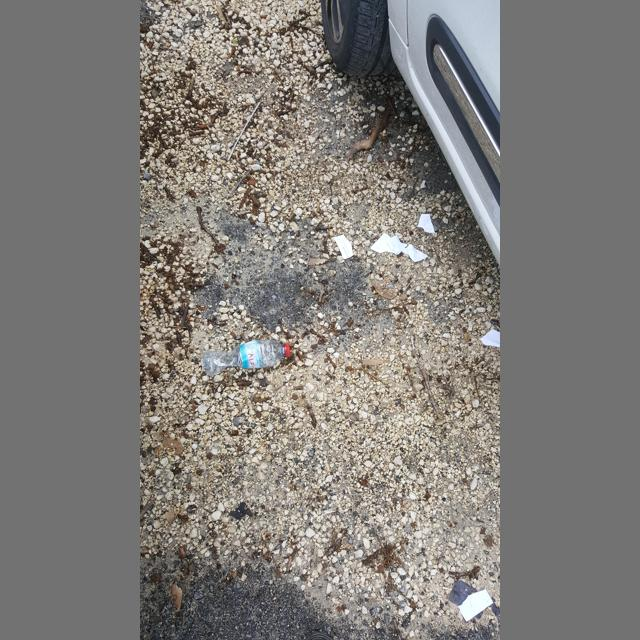litter: (203, 340, 291, 376), (227, 101, 261, 161), (370, 233, 428, 262), (457, 588, 493, 622), (333, 234, 354, 259), (417, 213, 435, 233), (480, 329, 500, 347), (286, 343, 290, 357)
